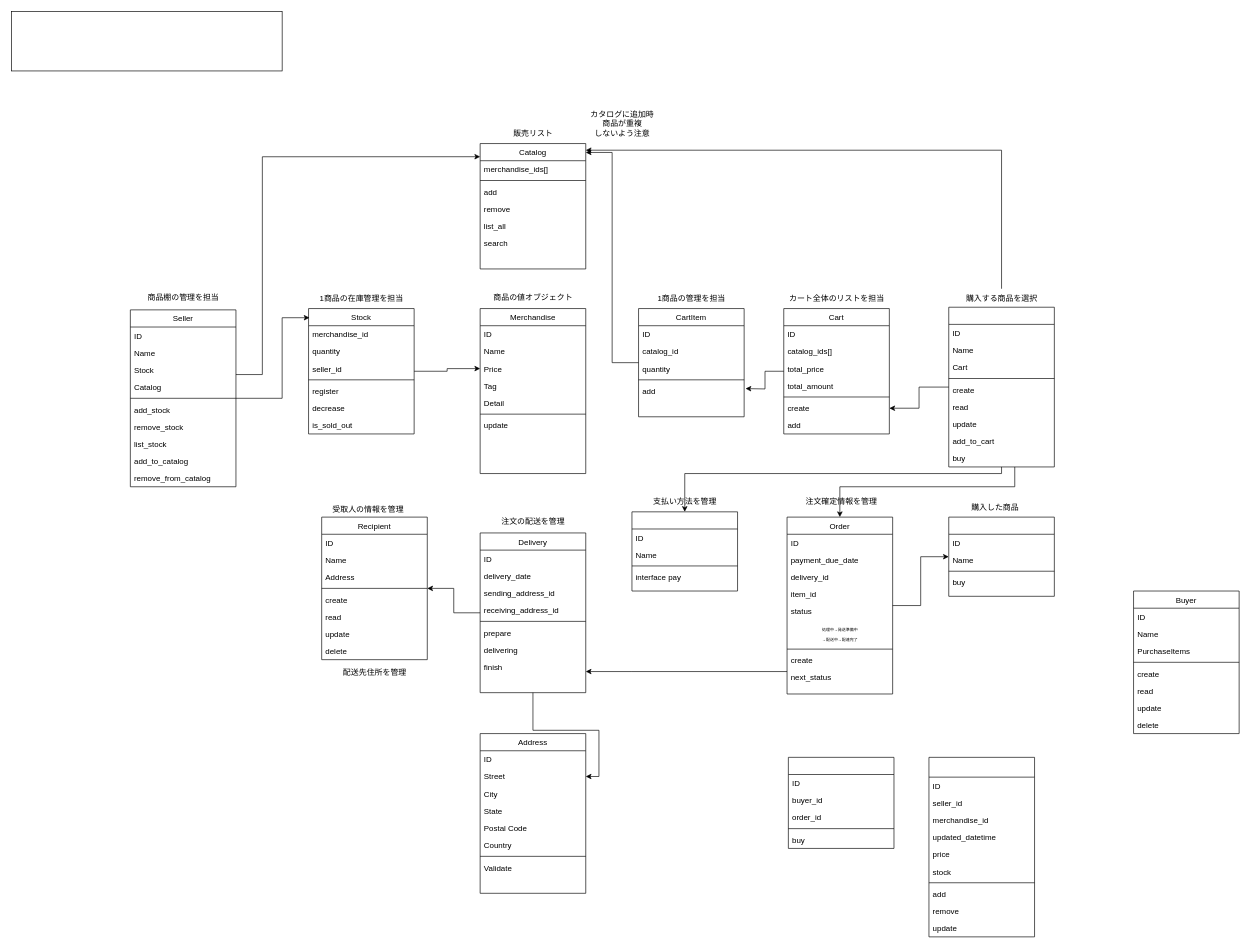
The diagram is 1251 pixels wide and 950 high, and some of its shapes have lost their labels. Each missing label, with the box of its shape:
Customer: (948, 307, 1054, 467)
MerchandiseHistory: (928, 757, 1035, 937)
OrderItem: (948, 516, 1054, 596)
Payment: (631, 511, 738, 591)
PurchaseHistory: (788, 757, 894, 848)
命名規則 1. クラス名はキャメルケース 2. 属性名やメソッド名はスネークケース: (11, 11, 282, 71)
